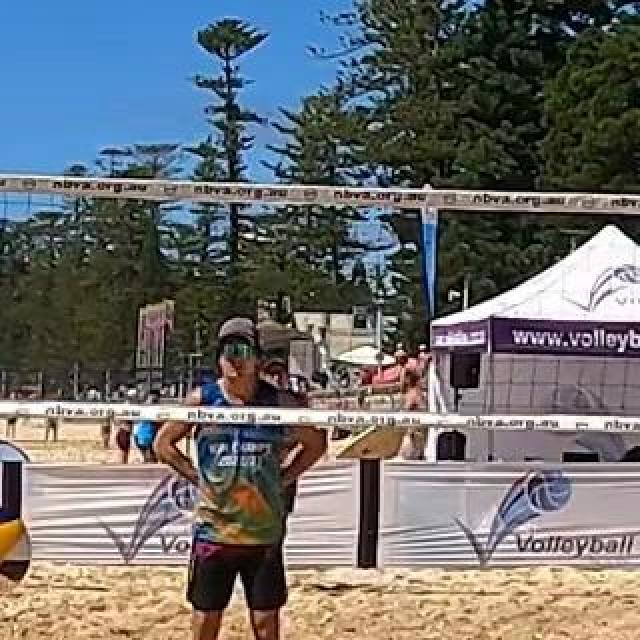volleyball: (0, 504, 30, 596)
